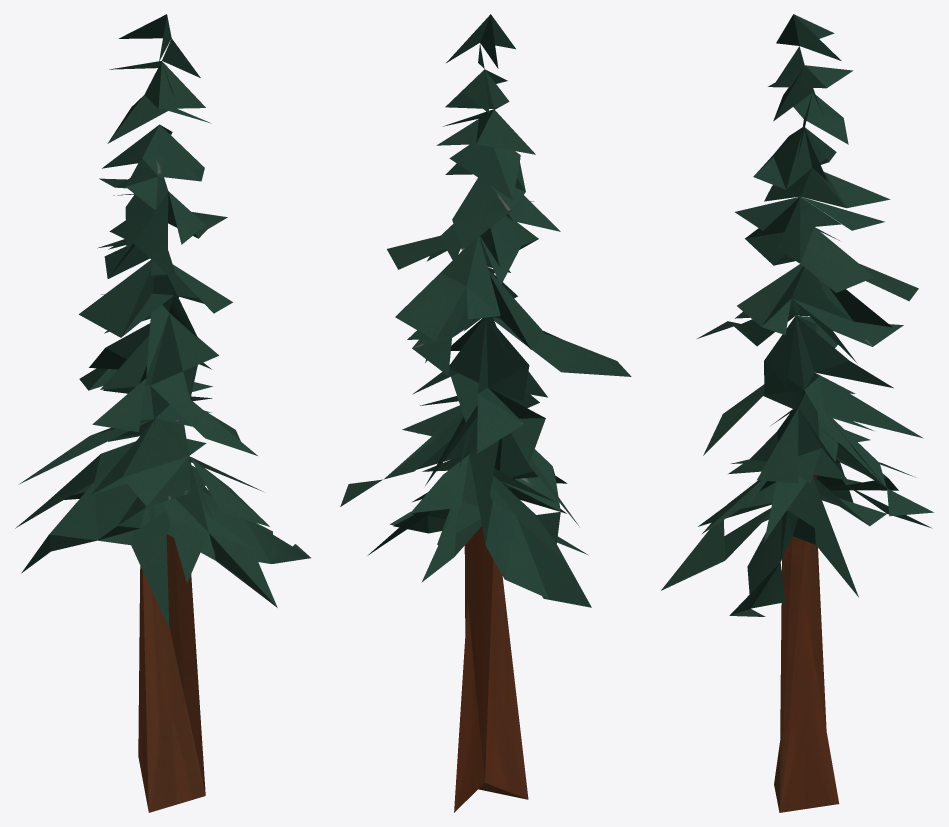
File: pinheiro.glb
3 views of the same model, side by side, from view 1: azimuth 30°, elevation 25°; view 2: azimuth 150°, elevation 25°; view 3: azimuth 270°, elevation 25° (orthographic).
Size of the model in its own units: 0.5438 by 1.71 by 0.5418.
Materials: 1 (1 with a texture image).
